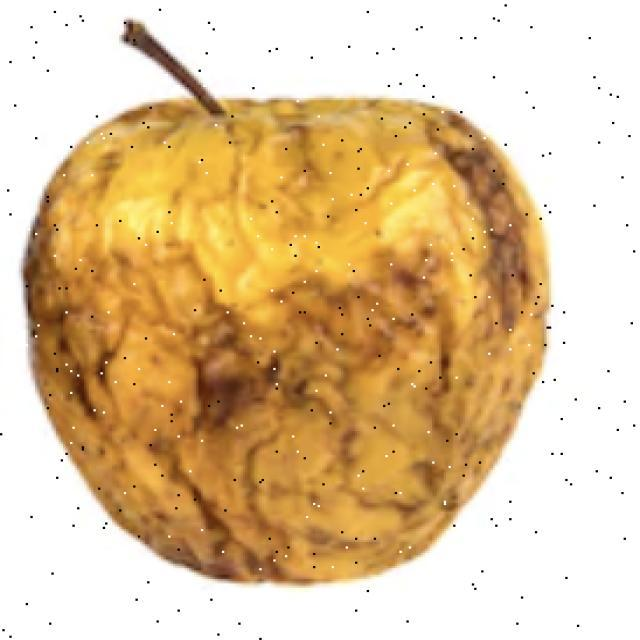Rotten: (28, 73, 562, 587)
